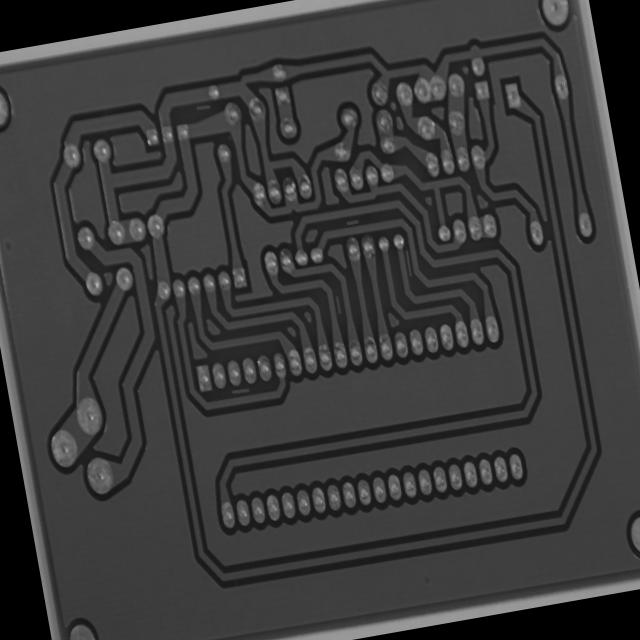spurious_copper: (398, 240, 418, 280), (328, 287, 346, 320), (190, 96, 214, 116), (228, 379, 252, 399), (342, 212, 362, 229)
